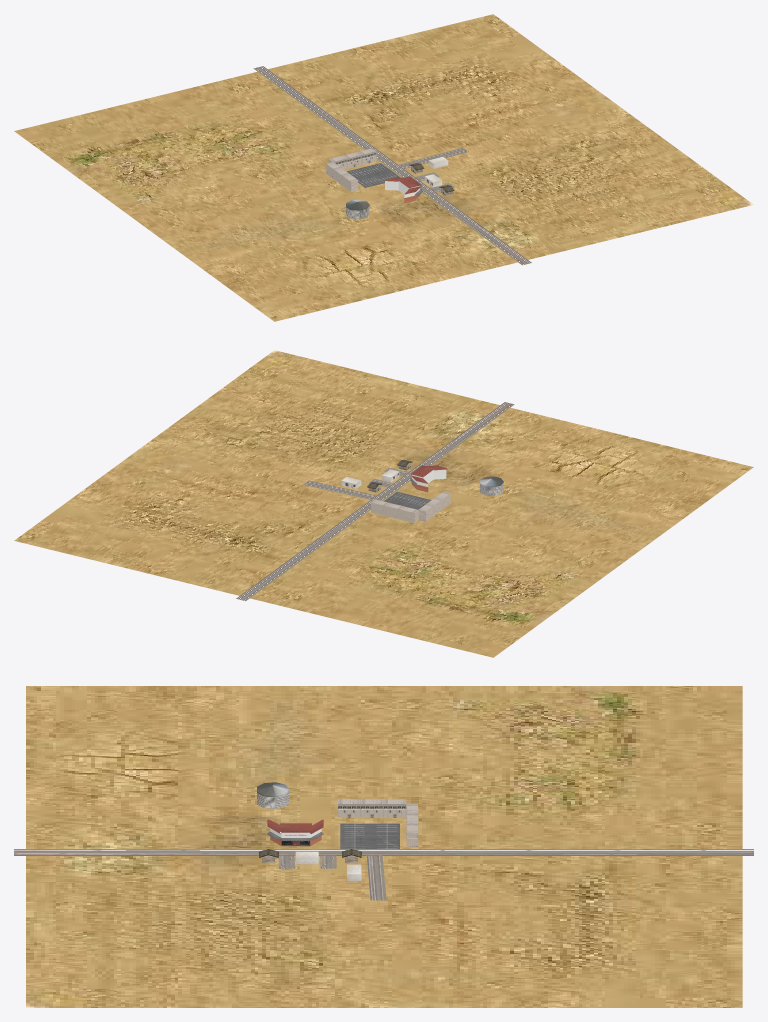
Rendered from City_scene.glb.
The picture shows the model from 3 angles, top to bottom: view 1: azimuth 30°, elevation 25°; view 2: azimuth 150°, elevation 25°; view 3: azimuth 270°, elevation 25°; orthographic projection. The views are drawn at different scales.
Parts seen in each view (by area): view 1: Plane.001, Plane, Plane.002, Cube.009; view 2: Plane.001, Plane, Cube.009; view 3: Plane.001, Plane, Plane.002, Cube.009, Cylinder, Plane.003.
Part boxes in pixels (<box>): Plane.001: <box>14,14,753,321</box>; Plane: <box>253,66,531,265</box>; Plane.002: <box>346,163,400,187</box>; Cube.009: <box>385,176,422,203</box>; Plane.001: <box>14,350,753,657</box>; Plane: <box>236,402,514,601</box>; Cube.009: <box>410,465,446,492</box>; Plane.001: <box>26,686,742,1007</box>; Plane: <box>14,849,753,855</box>; Plane.002: <box>340,823,399,848</box>; Cube.009: <box>267,819,323,846</box>; Cylinder: <box>257,782,289,808</box>; Plane.003: <box>366,855,386,900</box>.
Size of the model in its own units: 1042 by 31.21 by 1012.
22 materials, 22 textured.
